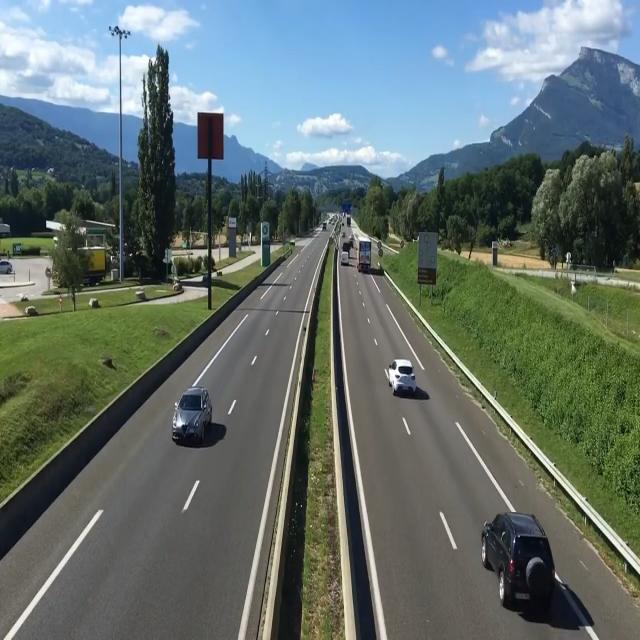car: (488, 512, 551, 620), (172, 382, 216, 449), (387, 353, 422, 401), (339, 250, 351, 270)
truck: (358, 234, 376, 278)
